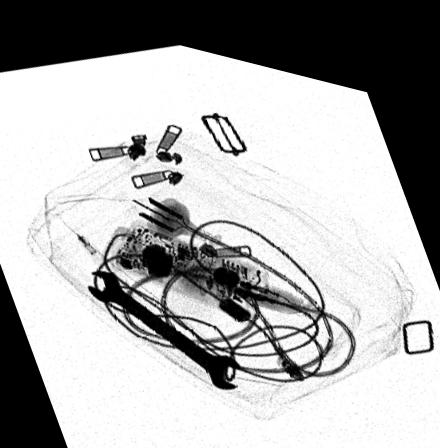Wrench: (87, 265, 247, 377)
